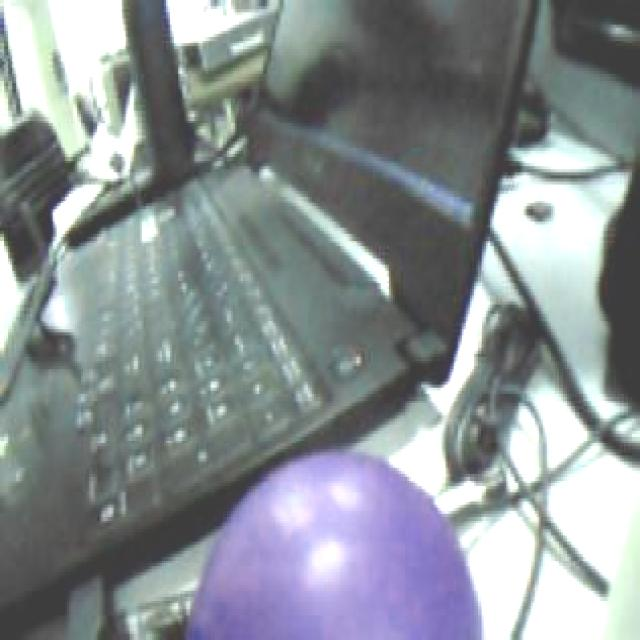BallPurple: (188, 450, 485, 640)
